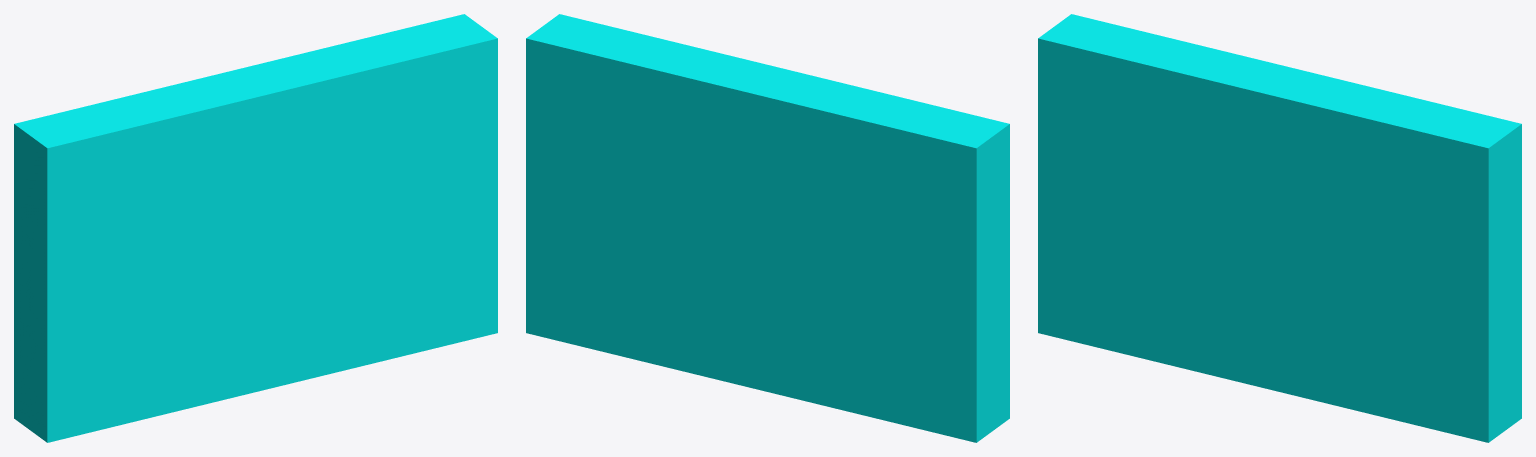
File: bulk_device.glb
3 renders of one model, left to right at view 1: azimuth 30°, elevation 25°; view 2: azimuth 150°, elevation 25°; view 3: azimuth 330°, elevation 25°, orthographic.
Parts seen in each view (by area): view 1: world; view 2: world; view 3: world.
Boxes of the visible parts, x1,y1,x2,y2 form: world: [14, 14, 497, 442]; world: [526, 14, 1009, 442]; world: [1038, 14, 1521, 442].
Size of the model in its own units: 19.46 by 12.16 by 2.5.
